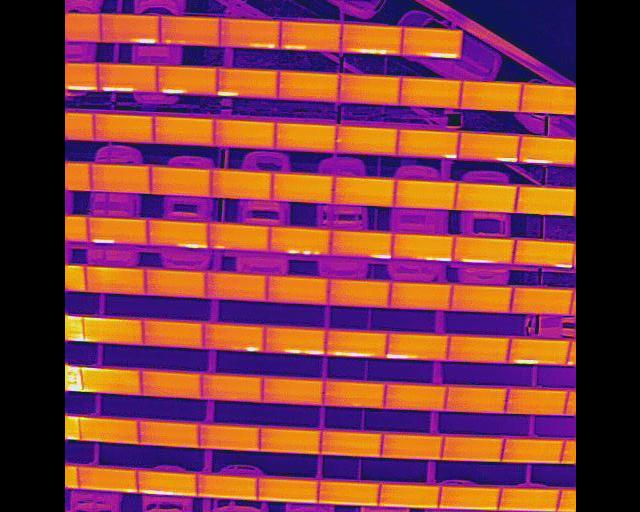Cell: (396, 130, 458, 158)
Cell-Multi: (157, 16, 219, 46), (268, 225, 330, 254)
No-Anomaly: (264, 275, 327, 306), (270, 173, 333, 204), (209, 170, 272, 200), (273, 122, 336, 152), (88, 164, 151, 194), (147, 166, 211, 195), (204, 271, 268, 300), (332, 176, 396, 205), (392, 180, 456, 209), (398, 78, 462, 107), (144, 269, 207, 298), (151, 117, 214, 146), (327, 279, 390, 308), (206, 222, 271, 250), (84, 266, 146, 295), (336, 126, 397, 155), (455, 183, 516, 212), (515, 186, 576, 215), (91, 113, 152, 142), (212, 120, 275, 148), (76, 466, 138, 494), (196, 424, 260, 451), (140, 370, 201, 398), (136, 419, 199, 446), (140, 320, 203, 347), (196, 473, 259, 500), (258, 426, 321, 453), (445, 385, 508, 412), (445, 336, 508, 363), (450, 285, 513, 312), (504, 388, 567, 415), (278, 72, 338, 100), (338, 77, 400, 104), (380, 433, 442, 460), (390, 282, 452, 309), (200, 374, 261, 401), (260, 378, 321, 405), (460, 82, 521, 109), (80, 368, 141, 395), (510, 288, 573, 314), (314, 481, 379, 506), (77, 417, 139, 443), (84, 318, 145, 344), (318, 431, 381, 456), (323, 382, 386, 407), (501, 437, 564, 462), (441, 435, 503, 460), (519, 85, 576, 112), (256, 478, 316, 503), (378, 484, 439, 508), (384, 386, 445, 410), (439, 486, 500, 510), (498, 488, 558, 511)
Unclassified: (278, 20, 341, 52), (217, 67, 278, 98), (97, 13, 160, 43), (384, 331, 449, 360), (199, 323, 266, 351), (95, 63, 156, 93), (146, 219, 209, 248), (330, 229, 392, 258), (155, 66, 216, 95), (218, 18, 279, 47), (457, 132, 518, 161), (262, 327, 324, 355), (339, 25, 401, 53), (392, 234, 454, 262), (400, 29, 459, 58), (452, 237, 513, 265), (135, 469, 198, 496), (508, 337, 568, 365), (324, 330, 386, 357), (86, 217, 148, 244), (514, 240, 573, 268), (518, 136, 576, 164)
